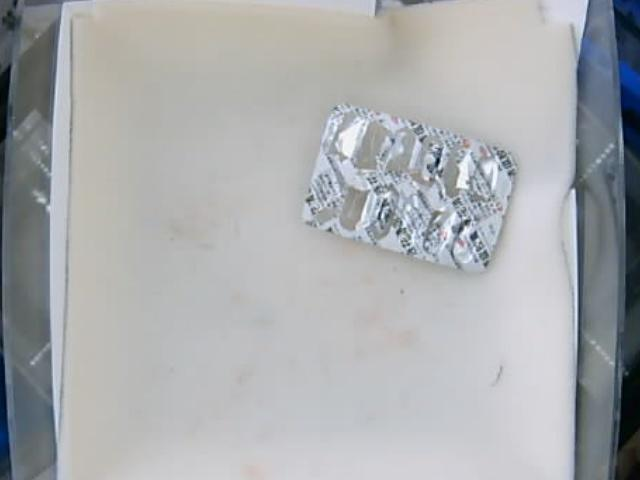Medicine: (301, 104, 517, 272)
